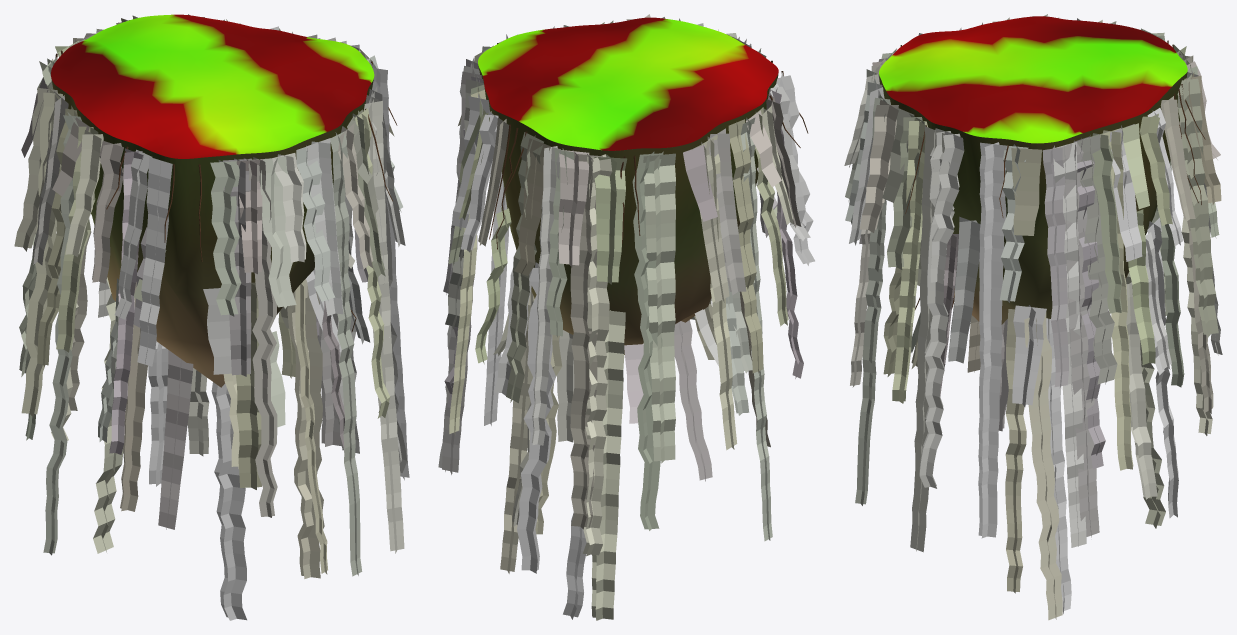
Rendered from SM_H17_Floater04.fbx.
3 renders of one model, left to right at view 1: azimuth 30°, elevation 25°; view 2: azimuth 150°, elevation 25°; view 3: azimuth 270°, elevation 25°, orthographic. The views are drawn at different scales.
Visible parts, largest first — view 1: SM_H17_Floater04_Ivy, SM_H17_Floater04; view 2: SM_H17_Floater04_Ivy, SM_H17_Floater04; view 3: SM_H17_Floater04_Ivy, SM_H17_Floater04.
Boxes of the visible parts, box(x1,y1,x2,y2) form: SM_H17_Floater04_Ivy: box(14, 14, 409, 620); SM_H17_Floater04: box(51, 14, 374, 387); SM_H17_Floater04_Ivy: box(438, 14, 814, 620); SM_H17_Floater04: box(478, 17, 778, 354); SM_H17_Floater04_Ivy: box(844, 14, 1222, 620); SM_H17_Floater04: box(879, 16, 1187, 324).
Bounding box in the file's own units: 23.72 × 37.69 × 24.43.
